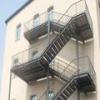stairs: (42, 22, 76, 66), (46, 69, 82, 100)
